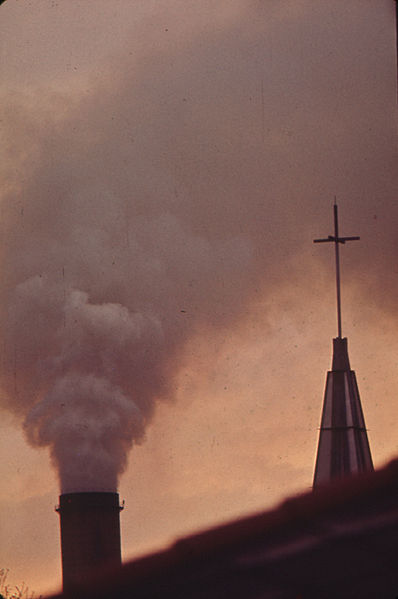dust: (6, 232, 217, 504)
